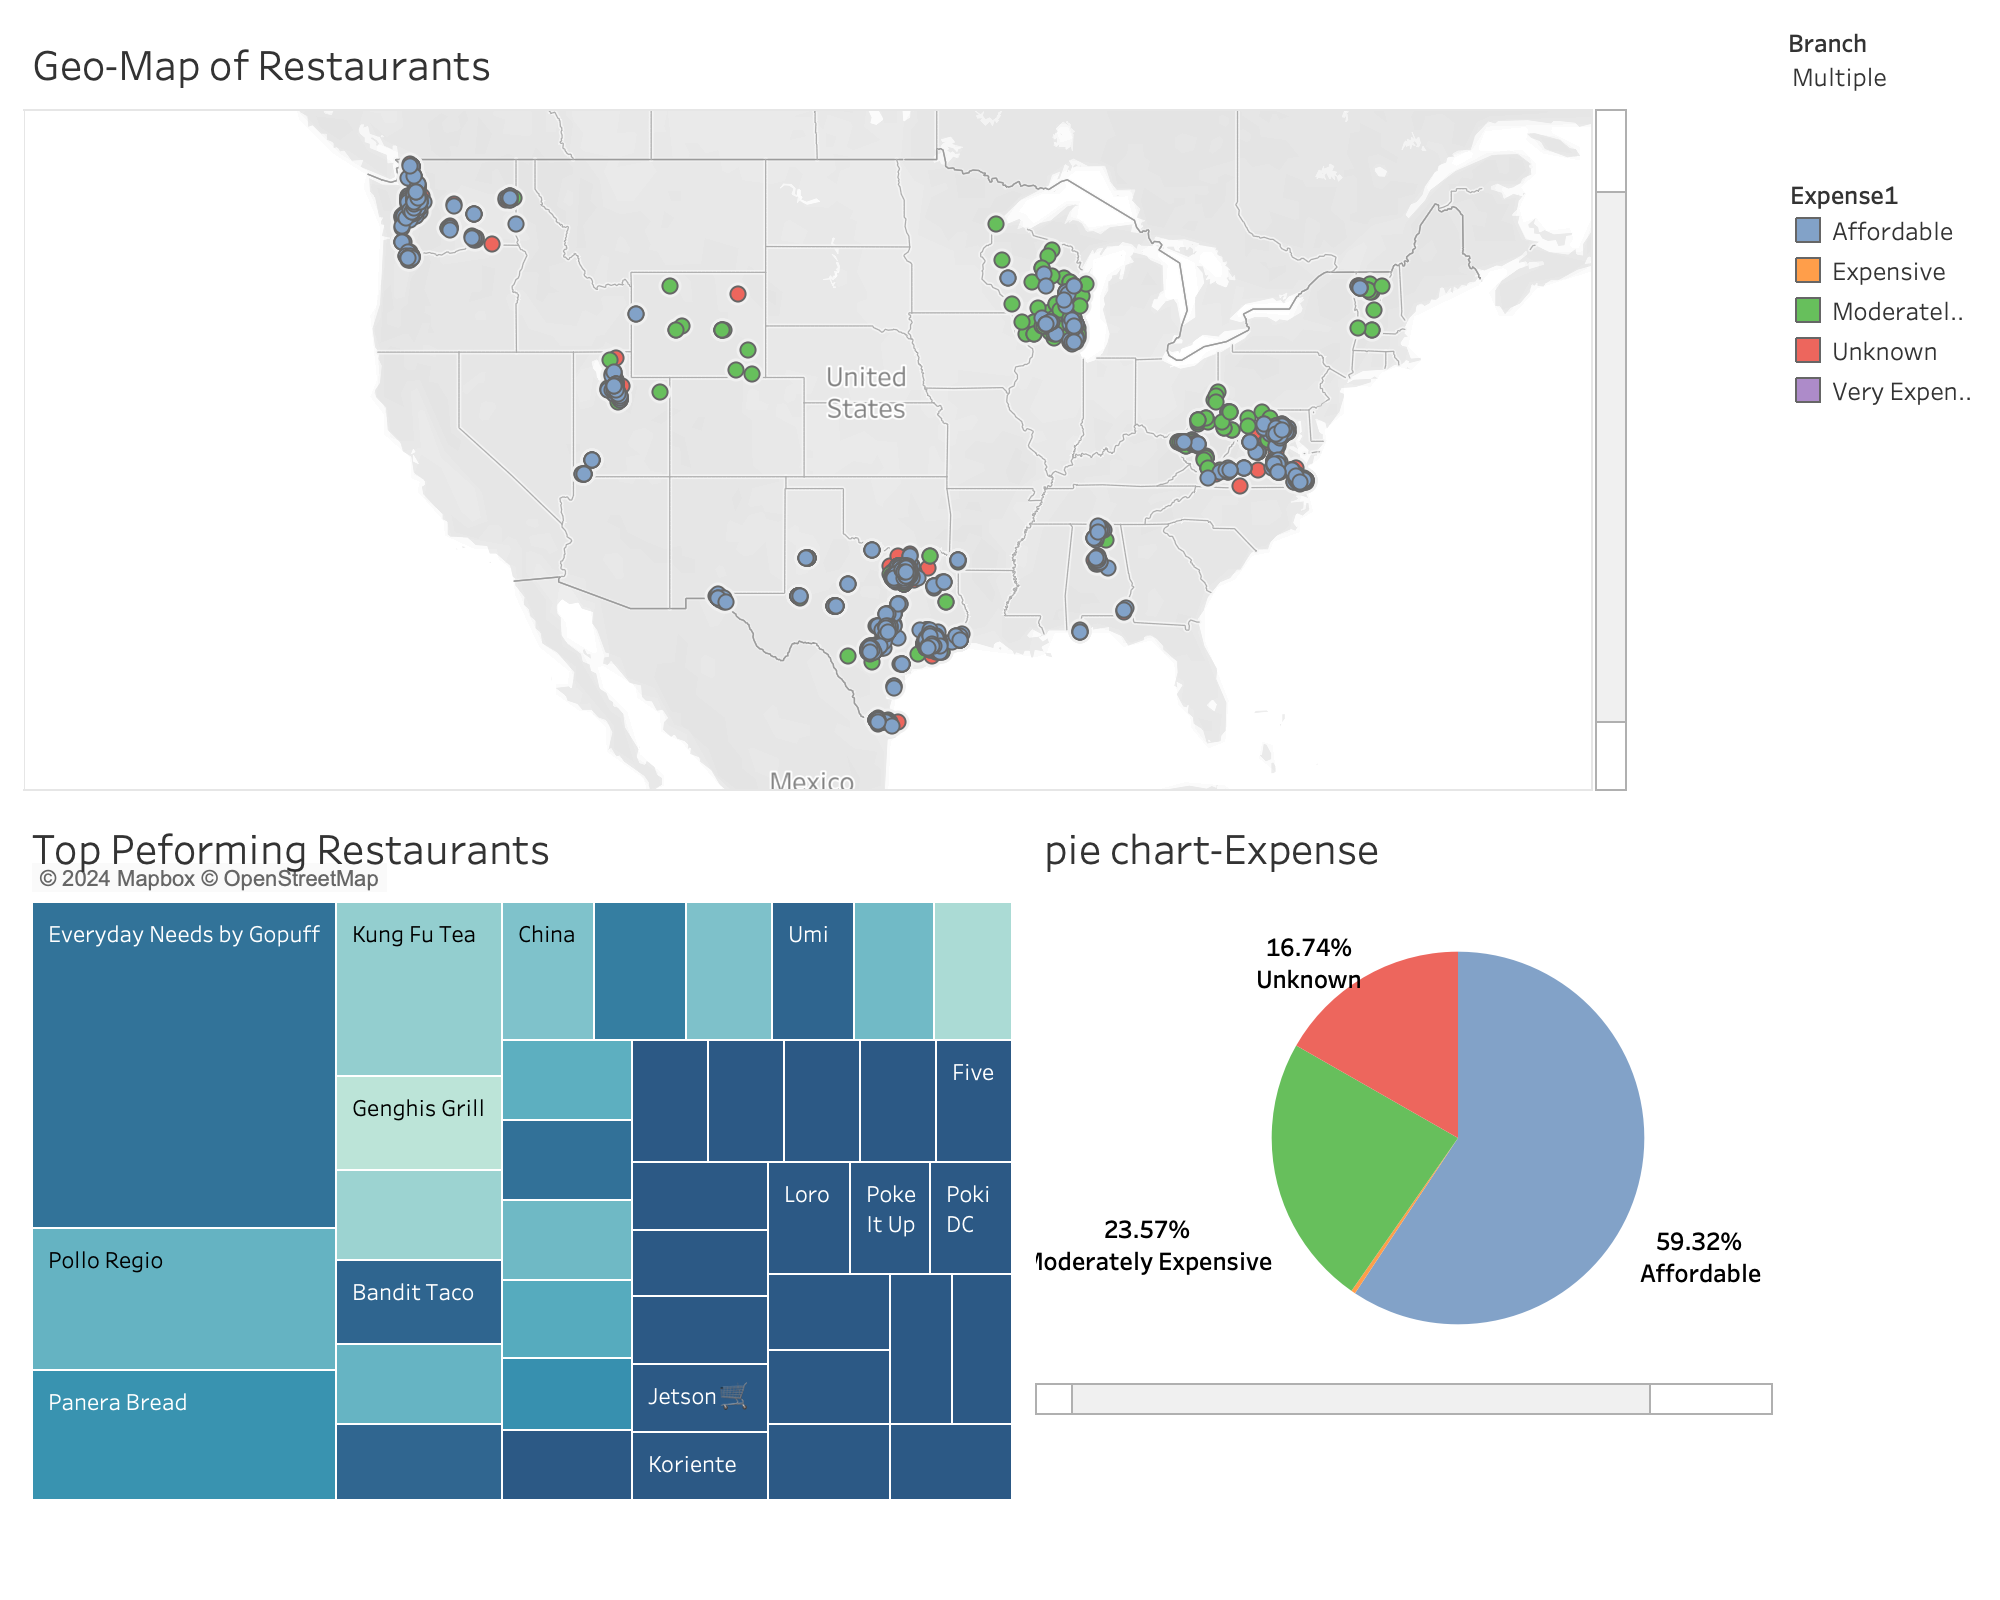

The page's visual inventory and layout, read from the dashboard file:
{"tool":"tableau","page":{"name":"Dashboard 1","canvas":[1000,800],"ordinal":0},"visuals":[{"type":"worksheet","title":"Geo-Map of Restaurants","mark":"Automatic","rows":["lat"],"cols":["lng"],"box":[8,8,858,392]},{"type":"filter","title":"Geo-Map of Restaurants","param":"[federated.1v4gw9116sqcd114eov7z147ly1k].[none:branch:nk]","box":[866,8,126,75]},{"type":"legend","title":"Geo-Map of Restaurants","param":"[federated.1v4gw9116sqcd114eov7z147ly1k].[none:Expense:nk]","box":[866,83,126,126]},{"type":"worksheet","title":"Top Performing Charts","mark":"Automatic","box":[8,400,492,392]},{"type":"worksheet","title":"pie chart-Expense","mark":"Pie","box":[500,400,366,392]}]}

Visuals, with their boxes in screenshot pixels (x1, y1, x2, y2), scaled from the page's 1000x800 canvas onto the 2000x1600 screenshot:
"Geo-Map of Restaurants" worksheet: detection(16, 16, 1732, 800)
"Geo-Map of Restaurants" filter: detection(1732, 16, 1984, 166)
"Geo-Map of Restaurants" legend: detection(1732, 166, 1984, 418)
"Top Performing Charts" worksheet: detection(16, 800, 1000, 1584)
"pie chart-Expense" worksheet (Pie marks): detection(1000, 800, 1732, 1584)
